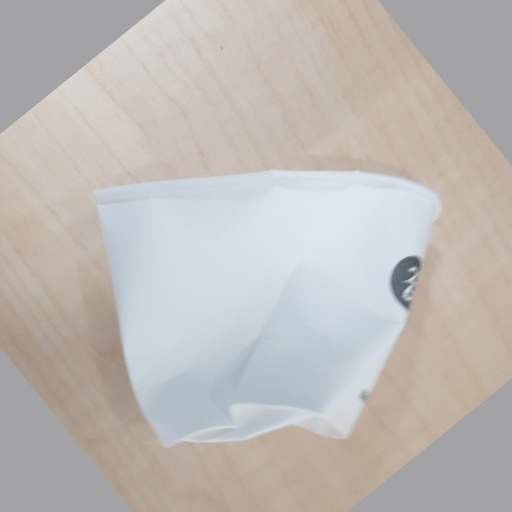Paper_1: (93, 171, 448, 453)
